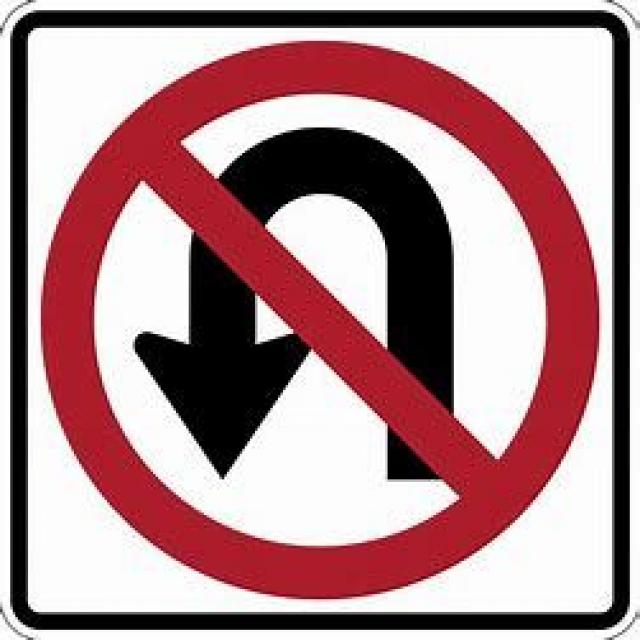U_TURN_PROHIBITED: (36, 36, 599, 596)
